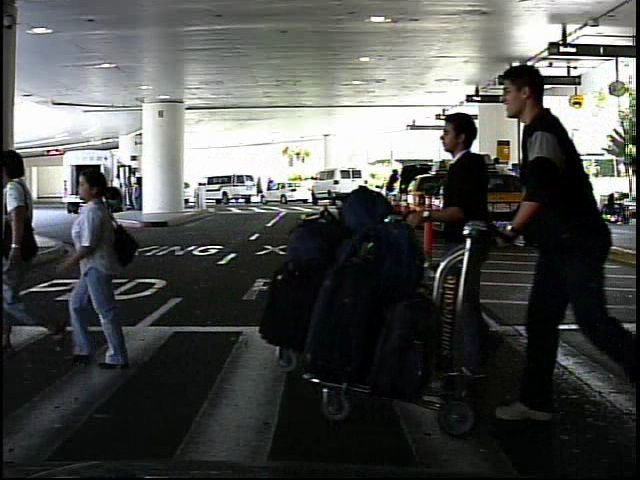person: (503, 49, 617, 426), (404, 106, 518, 394), (49, 157, 143, 382), (108, 171, 126, 221), (582, 171, 602, 216)
